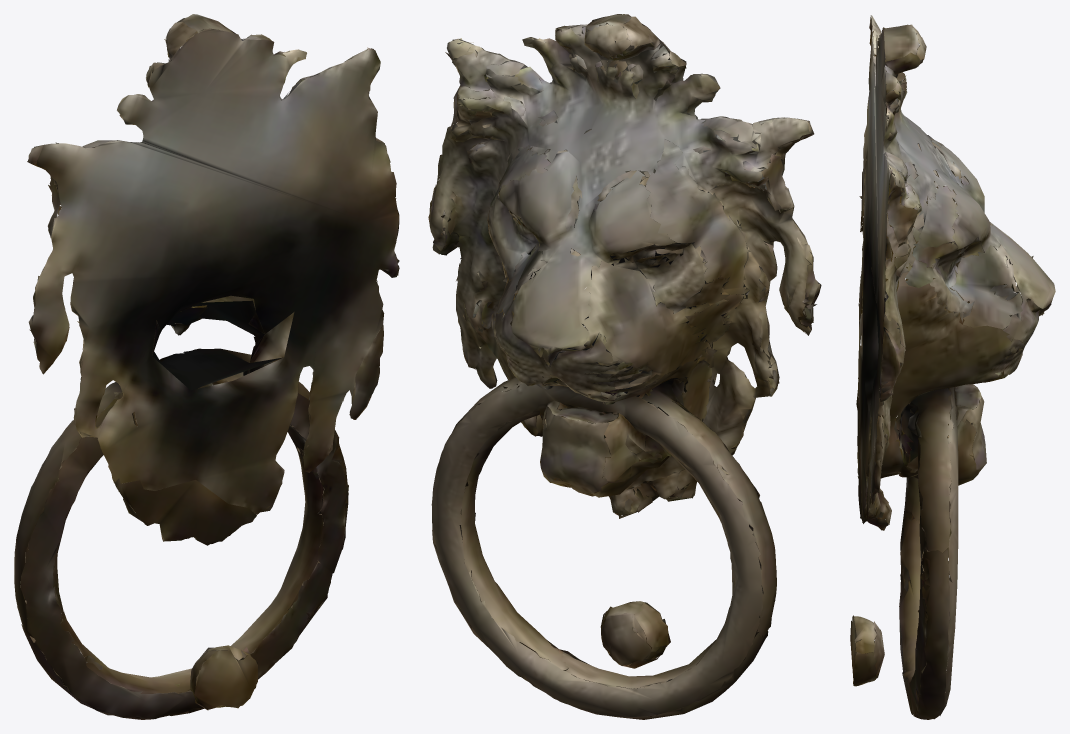
The model's file is vict_lion_door_knocker.glb.
3 views of the same model, side by side, from view 1: azimuth 30°, elevation 25°; view 2: azimuth 150°, elevation 25°; view 3: azimuth 270°, elevation 25° (orthographic). The views are drawn at different scales.
Parts seen in each view (by area): view 1: meshNode_Material_u1_v1_0; view 2: meshNode_Material_u1_v1_0; view 3: meshNode_Material_u1_v1_0.
Boxes of the visible parts, <box> form: meshNode_Material_u1_v1_0: <box>14,14,399,719</box>; meshNode_Material_u1_v1_0: <box>428,14,821,719</box>; meshNode_Material_u1_v1_0: <box>850,15,1055,719</box>.
Size of the model in its own units: 0.1423 by 0.25 by 0.0689.
Materials: 1 (1 with a texture image).
